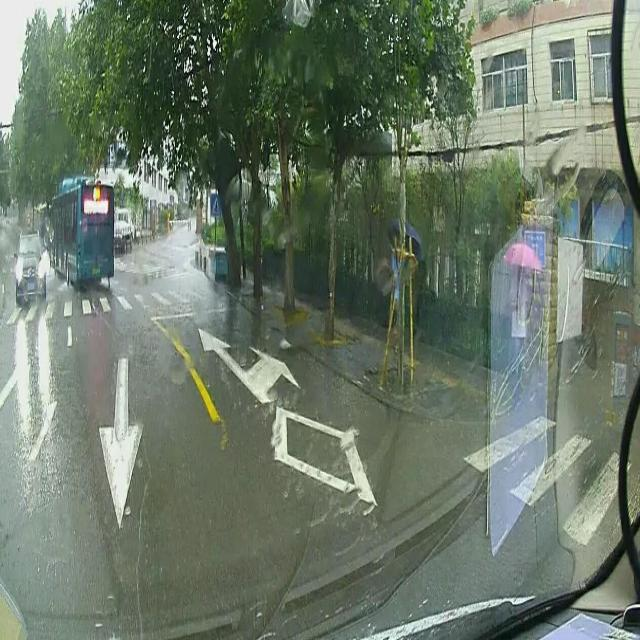car: (11, 228, 51, 302)
